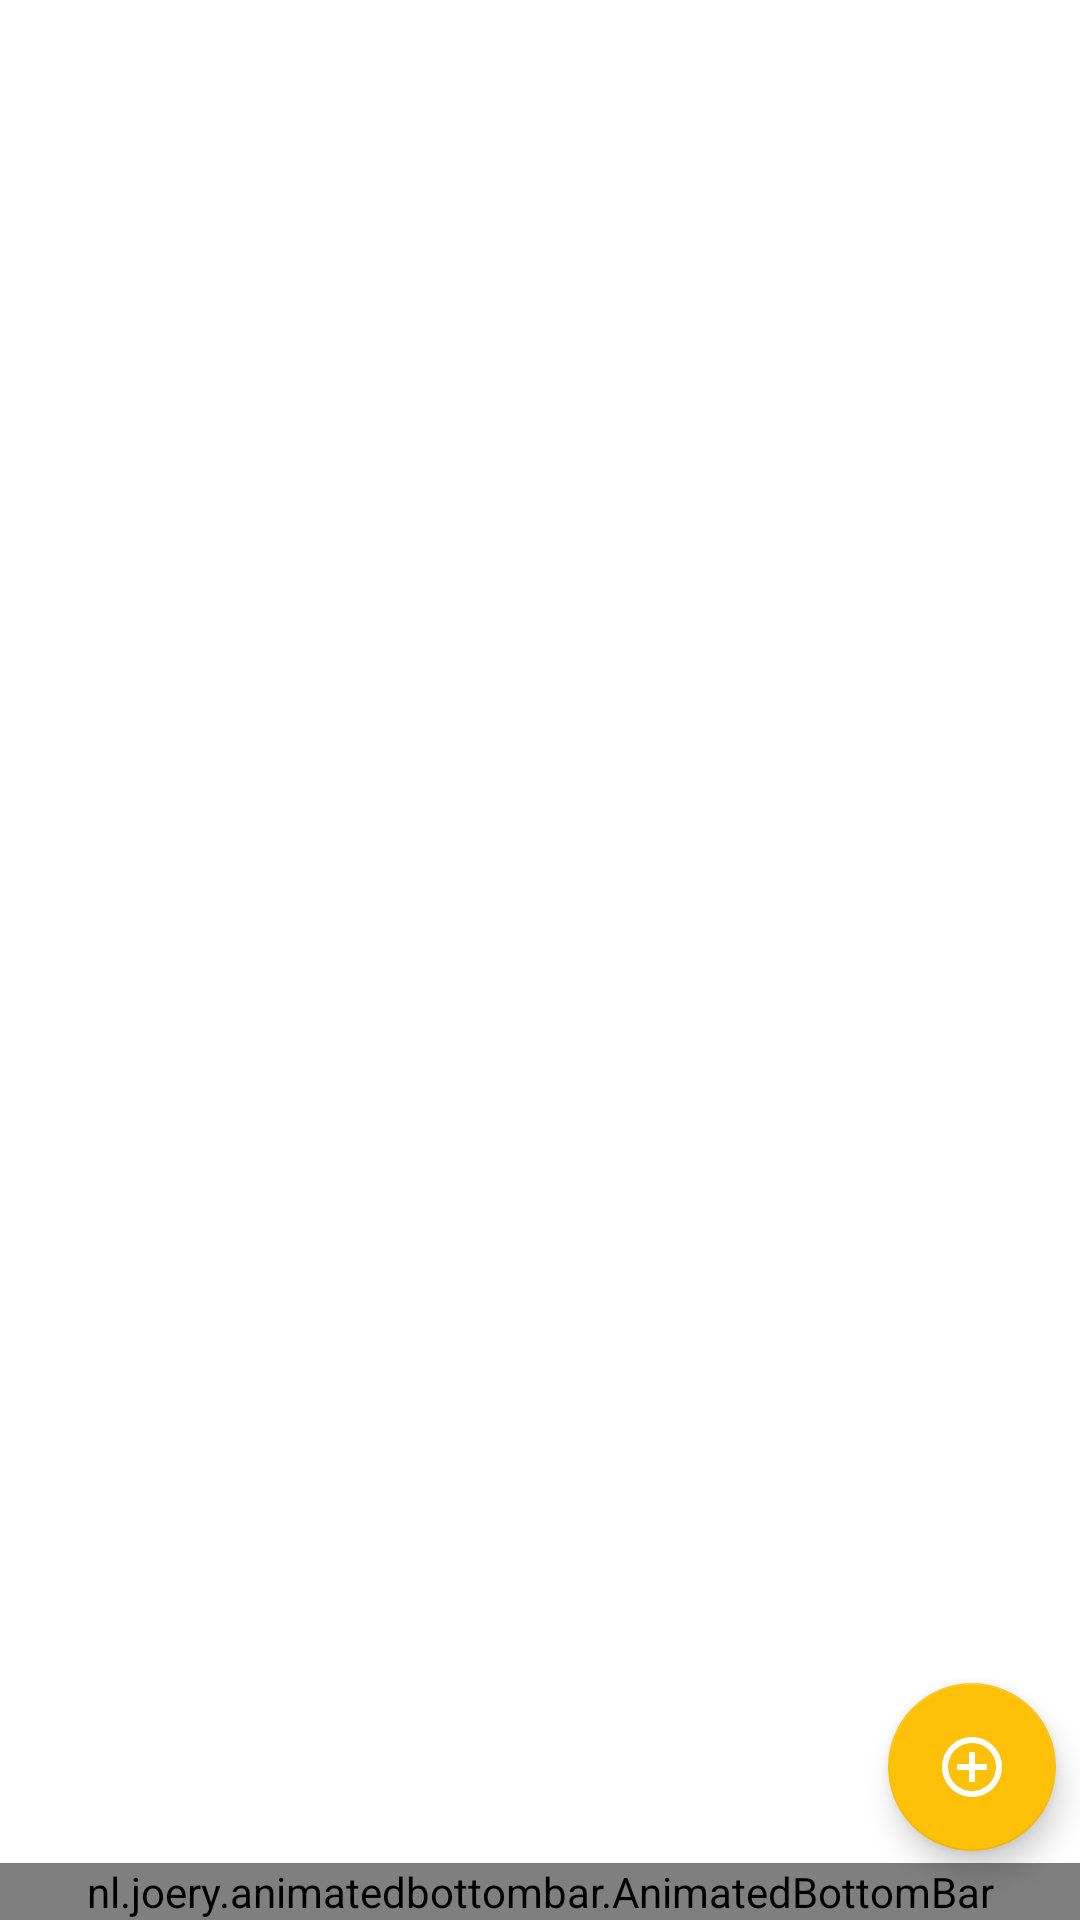

Point at icon controls on the screen. Image size 1080×1920, points as point (x, y).
add: point (972, 1767)
